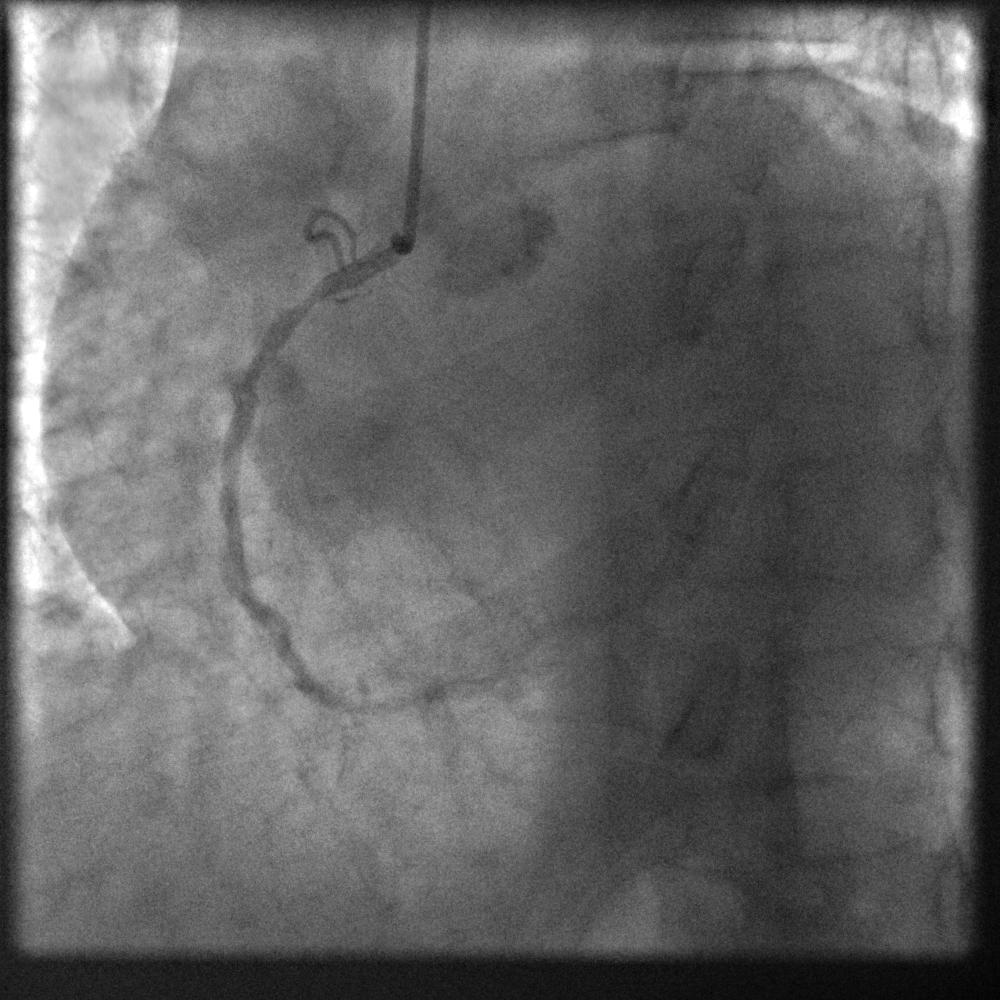Stenosis: (277, 280, 330, 321)
